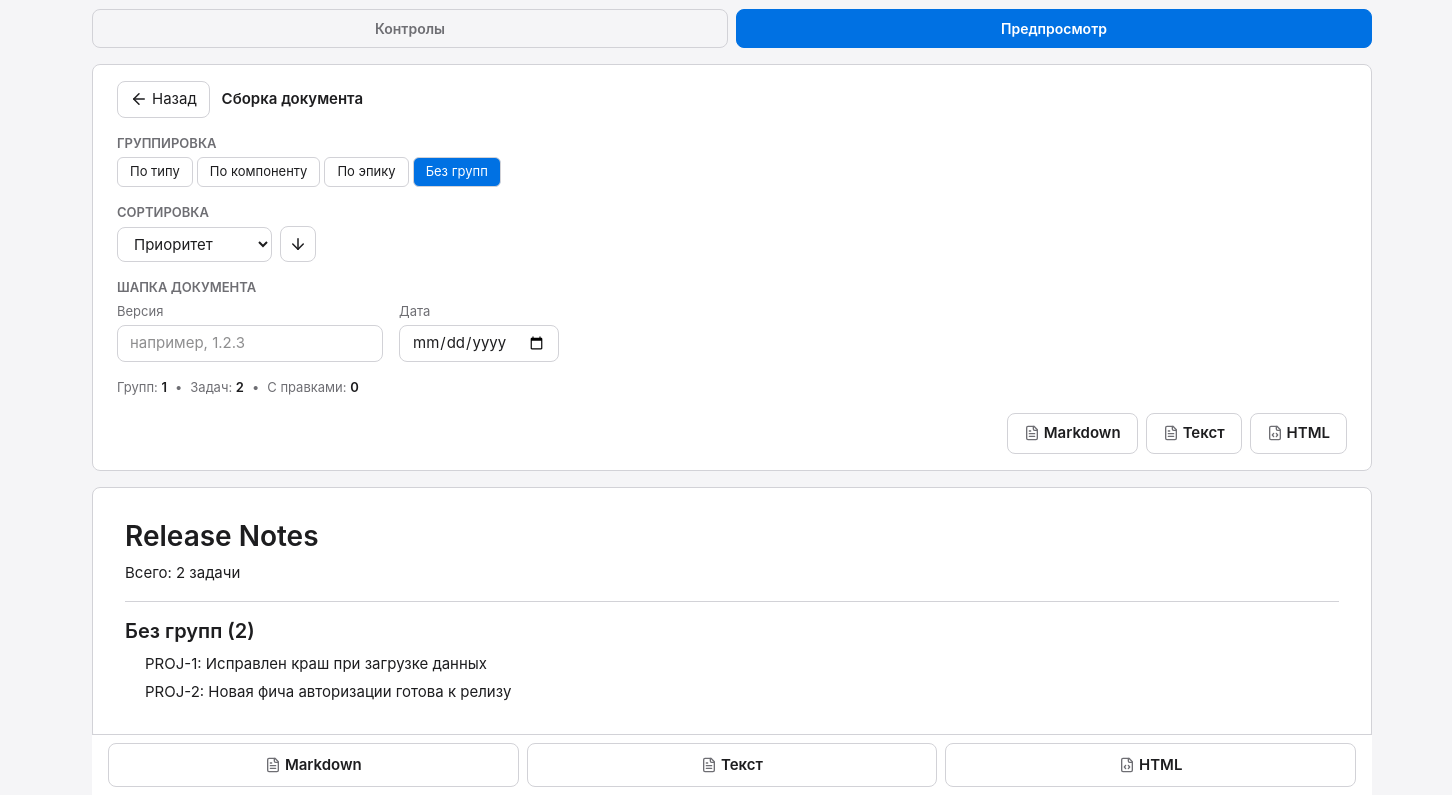
Scenario: ExportPage › changing the grouping via the GroupingControl radiogroup to "type" produces multiple H2 groups and updates the URL group param
The width and height of the screenshot is (1452, 795).
Step 1. Click the radio button labelled "По типу" → click(155, 172), box [117, 157, 193, 186]
(page scrolled)
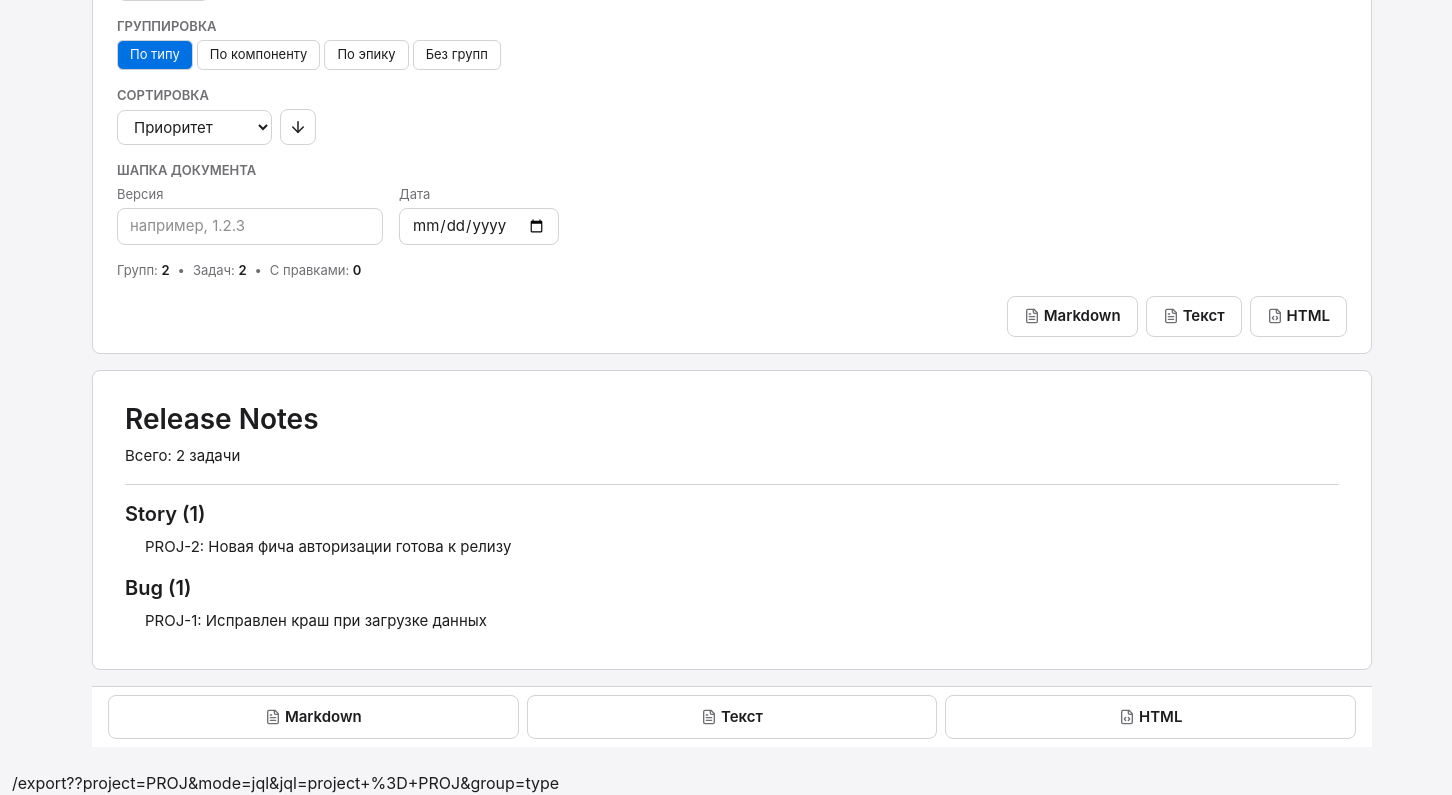
Now the text with test id "loc" shows "group=type", box [12, 773, 559, 793]
